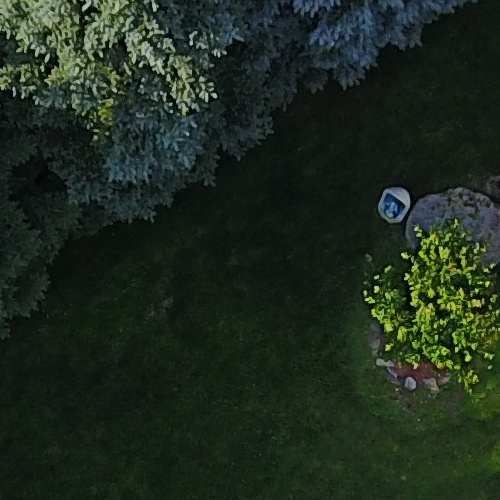container: (366, 176, 415, 229)
no larvae: (367, 177, 416, 235)
